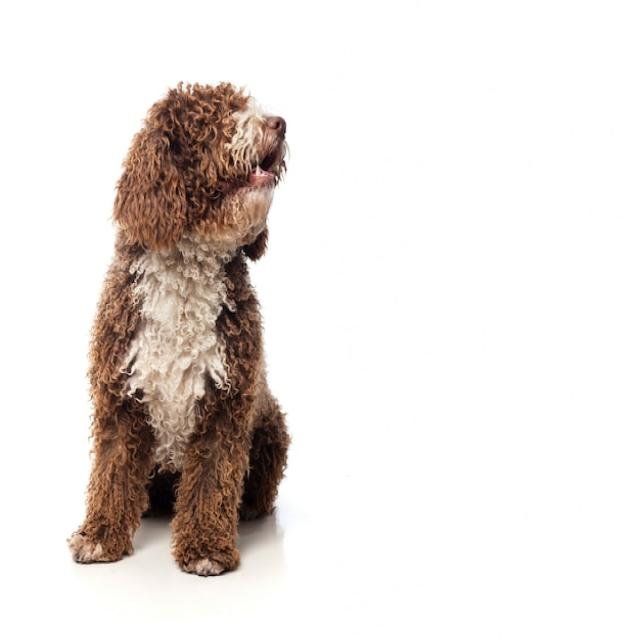Dog: (69, 81, 291, 577)
